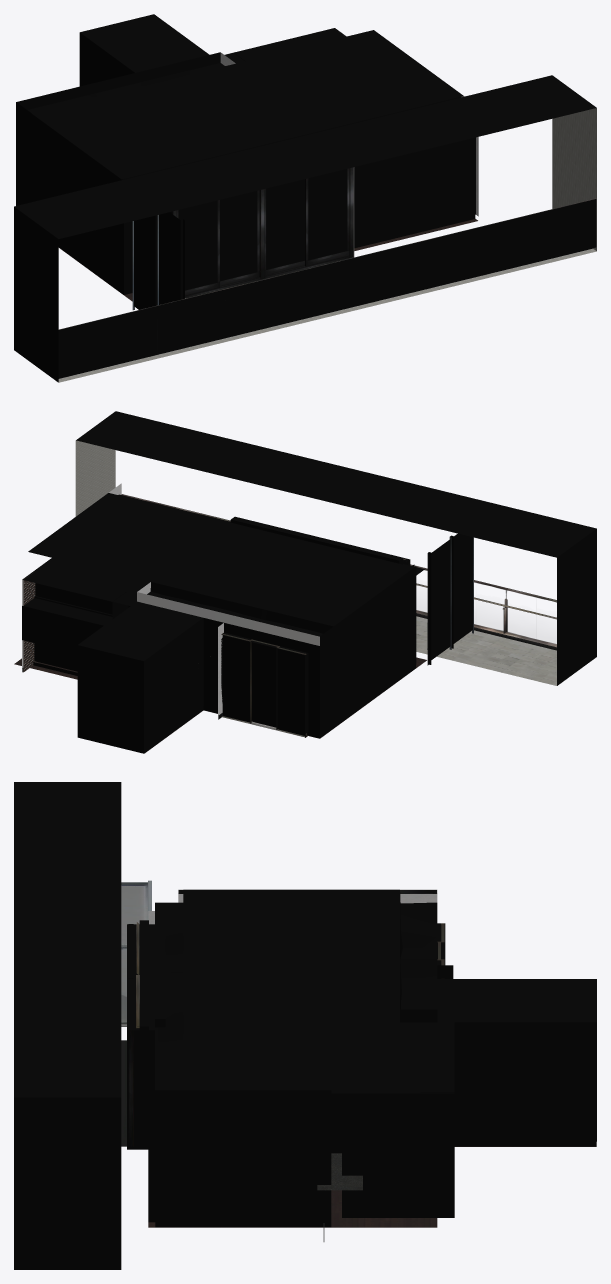
The model's file is apartment.glb.
The picture shows the model from 3 angles, top to bottom: view 1: azimuth 30°, elevation 25°; view 2: azimuth 150°, elevation 25°; view 3: azimuth 270°, elevation 25°; orthographic projection. The views are drawn at different scales.
Visible parts, largest first — view 1: Material2, Material3 (×4); view 2: Material2, Material3 (×7); view 3: Material2, Material3 (×5).
Boxes of the visible parts, x1,y1,x2,y2 form: Material2: [14, 14, 596, 382]; Material3 (×4): [58, 52, 596, 382]; Material2: [22, 411, 596, 753]; Material3 (×7): [14, 440, 556, 752]; Material2: [14, 782, 596, 1269]; Material3 (×5): [121, 880, 596, 1227].
Size of the model in its own units: 7349 by 1874 by 5740.
Materials: 42 (41 with a texture image).
